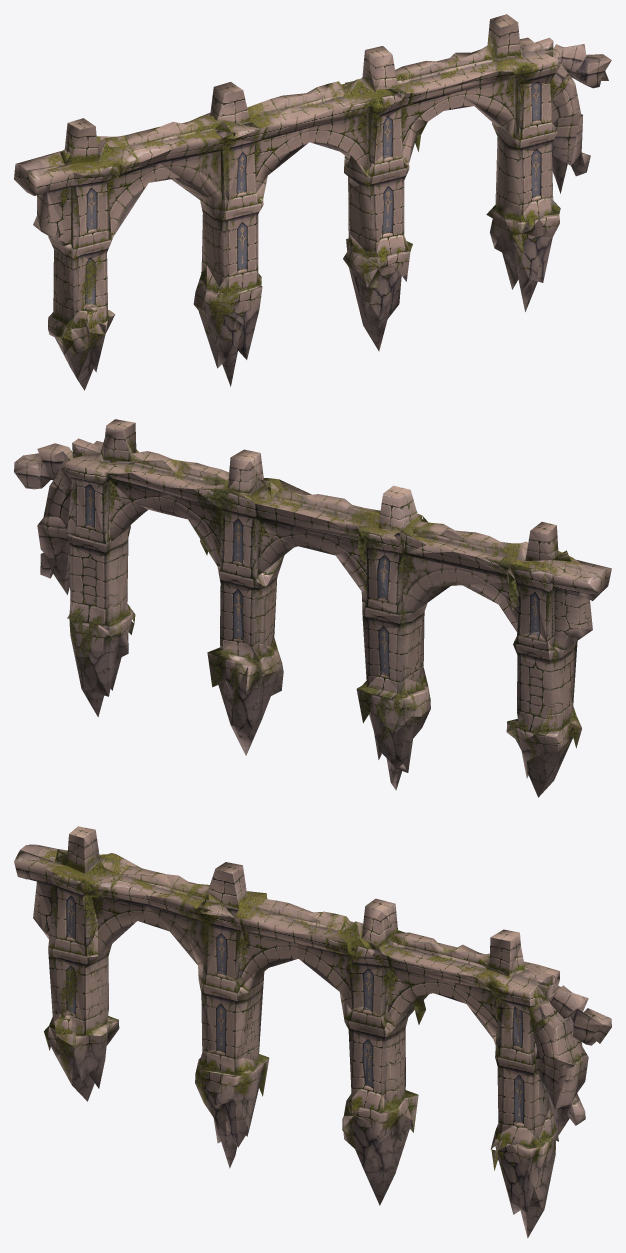
File: SM_FloatingRuinSkybridge.fbx
3 renders of one model, top to bottom at view 1: azimuth 30°, elevation 25°; view 2: azimuth 150°, elevation 25°; view 3: azimuth 330°, elevation 25°, orthographic.
Visible parts, largest first — view 1: Mesh_0; view 2: Mesh_0; view 3: Mesh_0.
Boxes of the visible parts, bbox=[...] form: Mesh_0: bbox=[14, 14, 611, 390]; Mesh_0: bbox=[14, 419, 611, 797]; Mesh_0: bbox=[14, 826, 611, 1237].
Size of the model in its own units: 188 by 92.51 by 19.09.
1 material, 1 textured.
